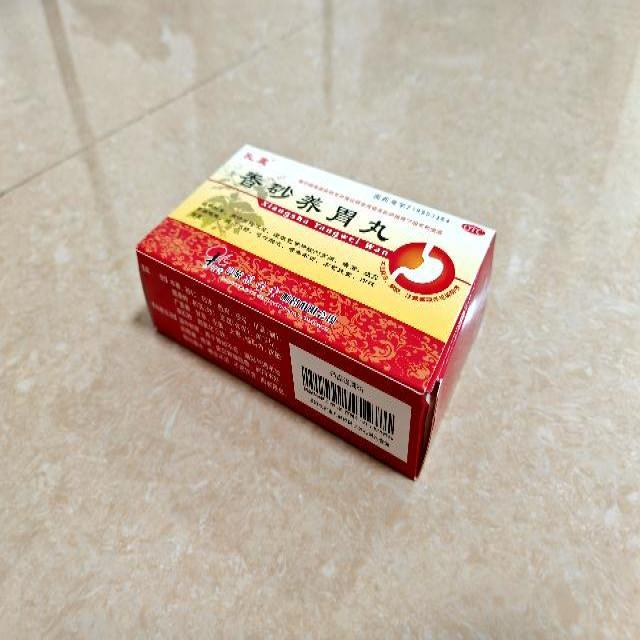box: (137, 142, 495, 482)
